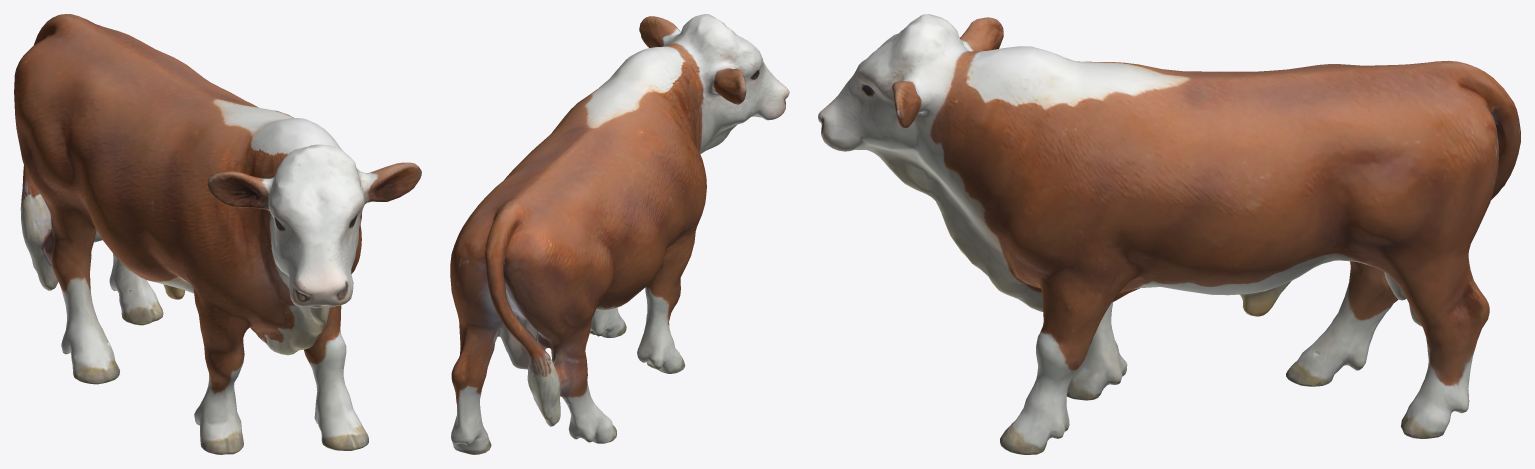
The model's file is Schleich_Hereford_Bull.glb.
3 renders of one model, left to right at view 1: azimuth 30°, elevation 25°; view 2: azimuth 150°, elevation 25°; view 3: azimuth 270°, elevation 25°, orthographic. The views are drawn at different scales.
Parts seen in each view (by area): view 1: model.obj; view 2: model.obj; view 3: model.obj.
Part boxes in pixels (box(x1,y1,x2,y2)): model.obj: box(14, 14, 421, 454); model.obj: box(450, 14, 789, 454); model.obj: box(818, 14, 1520, 454).
Bounding box in the file's own units: 0.3256 × 0.6071 × 1.
1 material, 1 textured.
